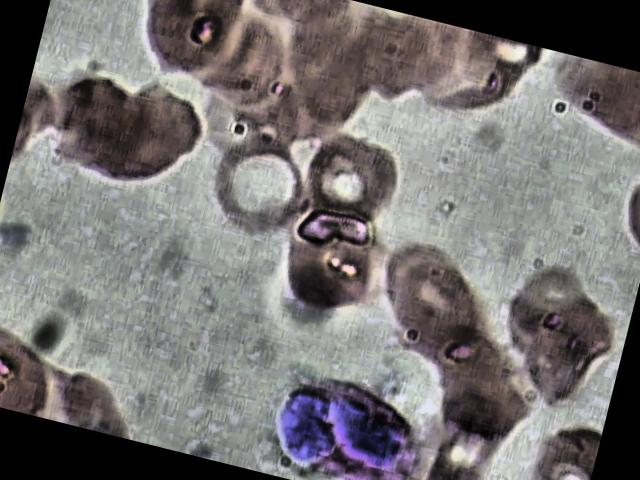RBC: (270, 198, 396, 328), (368, 230, 494, 359), (192, 123, 317, 252), (291, 116, 416, 245), (486, 252, 611, 381), (36, 68, 162, 192), (104, 80, 214, 201), (120, 0, 264, 92), (501, 405, 603, 480), (0, 319, 63, 418)
WBC: (258, 361, 438, 480)
